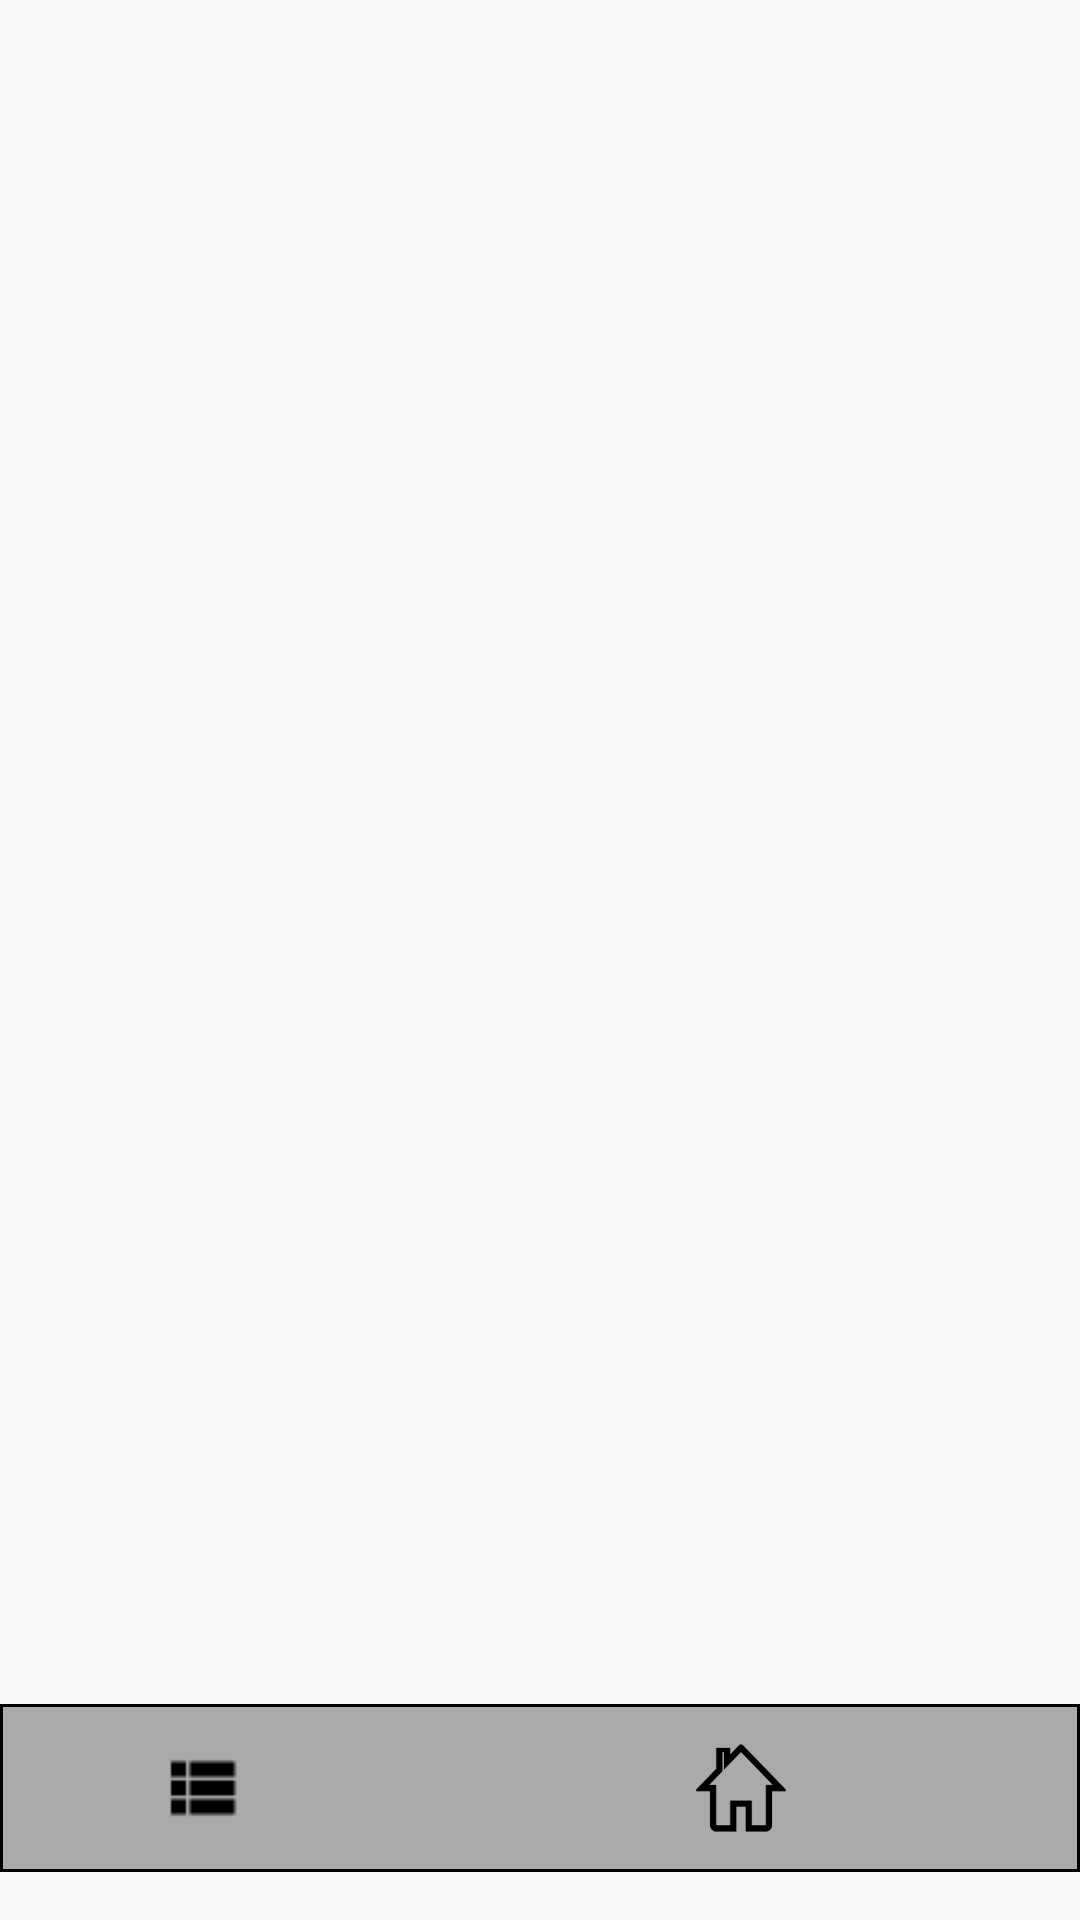

Screen size 1080px×1920px. Icon name, then its center in pixels as point (x, y):
home: point (741, 1788)
view list: point (203, 1788)
